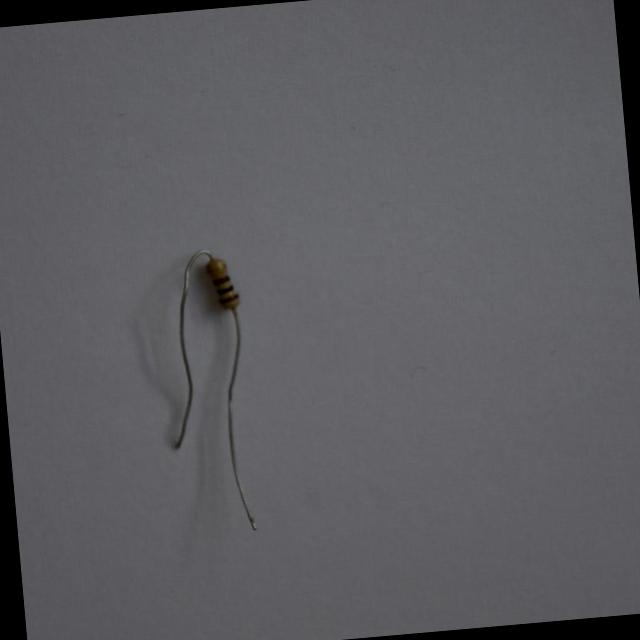Resistor: (200, 256, 245, 311)
black: (217, 285, 234, 294)
brown: (211, 274, 230, 285), (217, 293, 239, 302)
gold: (208, 264, 224, 273)
